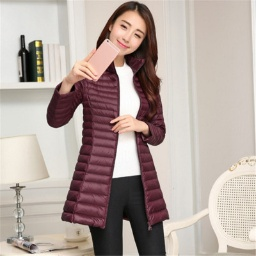face: (99, 2, 159, 66)
